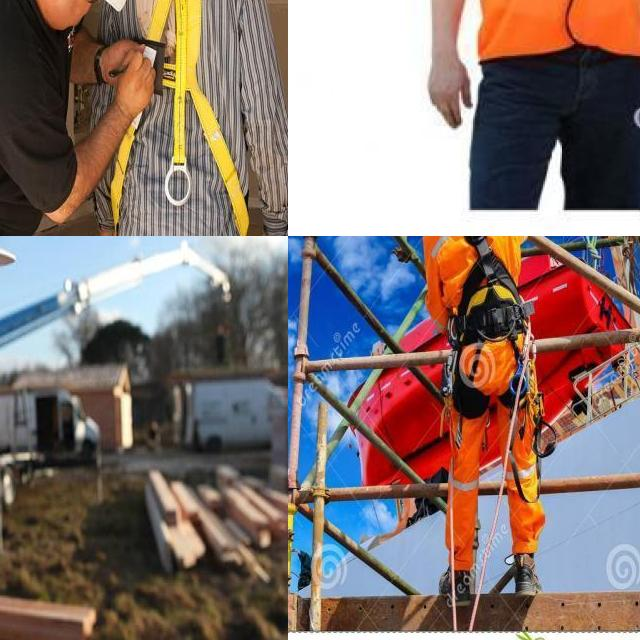Harness: (109, 0, 250, 236), (449, 236, 524, 346)
hand_noglove: (403, 54, 475, 124)
person: (457, 0, 640, 203)
